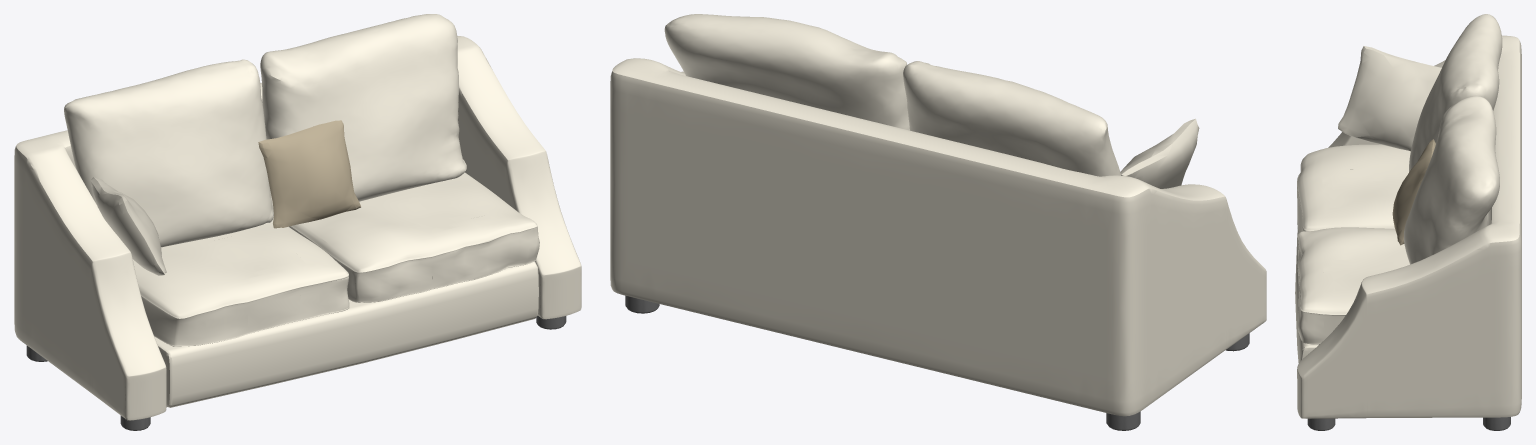
File: sh_scopia_beige_sofa_2seats.glb
3 renders of one model, left to right at view 1: azimuth 30°, elevation 25°; view 2: azimuth 150°, elevation 25°; view 3: azimuth 270°, elevation 25°, orthographic. The views are drawn at different scales.
Size of the model in its own units: 1.59 by 0.866 by 0.735.
